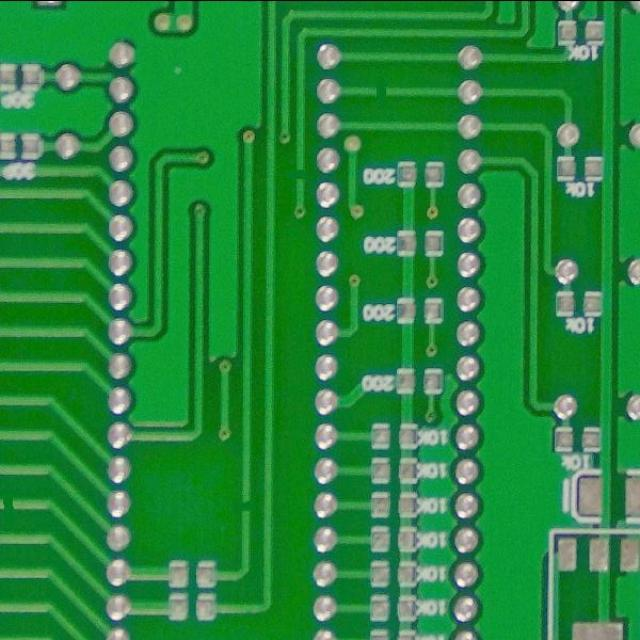open_circuit: (235, 494, 255, 519), (289, 166, 307, 184), (372, 83, 392, 99)
